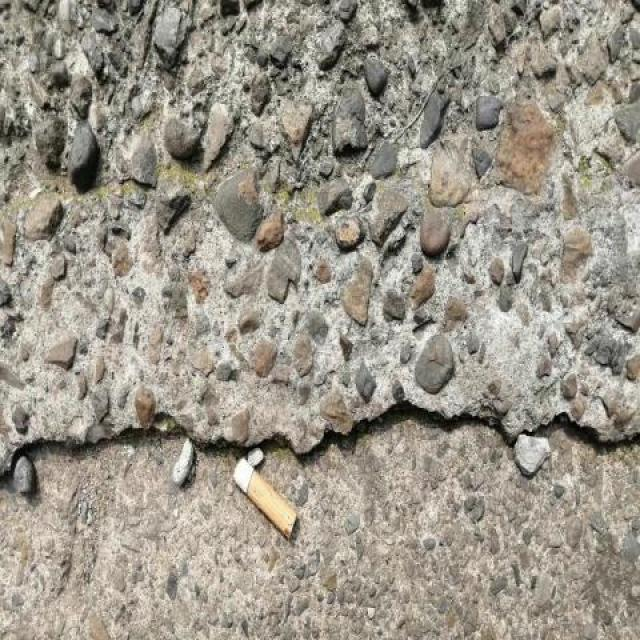non-organic waste: (229, 454, 303, 543)
